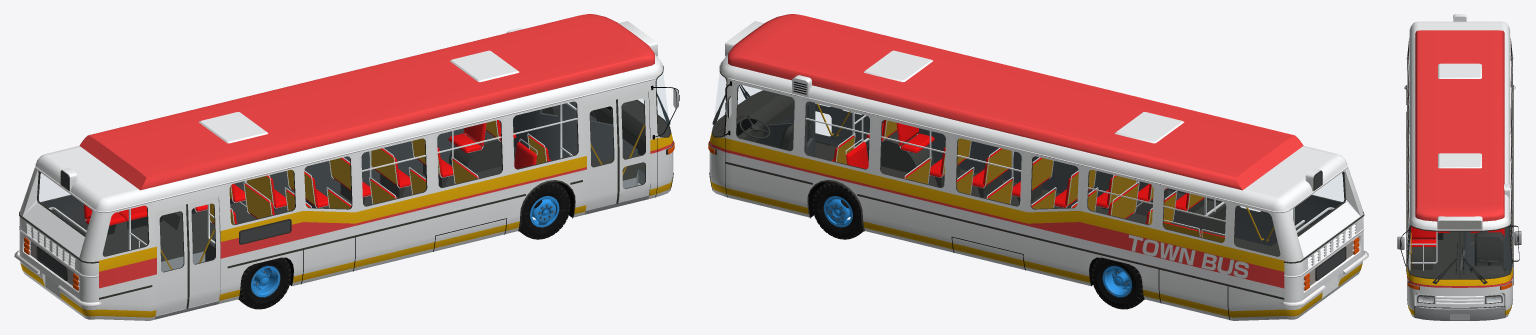
File: m_car-town-bus.glb
3 views of the same model, side by side, from view 1: azimuth 30°, elevation 25°; view 2: azimuth 150°, elevation 25°; view 3: azimuth 270°, elevation 25° (orthographic). The views are drawn at different scales.
Parts seen in each view (by area): view 1: Object_4, Object_5, Object_10, Object_12, Object_16; view 2: Object_4, Object_5, Object_10, Object_12, Object_16, Object_2; view 3: Object_4, Object_5.
Part boxes in pixels (<box>): Object_4: <box>19,14,676,320</box>; Object_5: <box>14,21,679,308</box>; Object_10: <box>519,181,570,239</box>; Object_12: <box>238,257,291,309</box>; Object_16: <box>39,75,668,201</box>; Object_4: <box>708,14,1363,320</box>; Object_5: <box>709,21,1368,319</box>; Object_10: <box>812,181,863,239</box>; Object_12: <box>1091,257,1144,309</box>; Object_16: <box>714,74,1343,215</box>; Object_2: <box>1128,234,1248,278</box>; Object_4: <box>1407,14,1520,320</box>; Object_5: <box>1397,28,1521,320</box>.
Size of the model in its own units: 131 by 32.35 by 31.86.
Materials: 7 (7 with a texture image).
